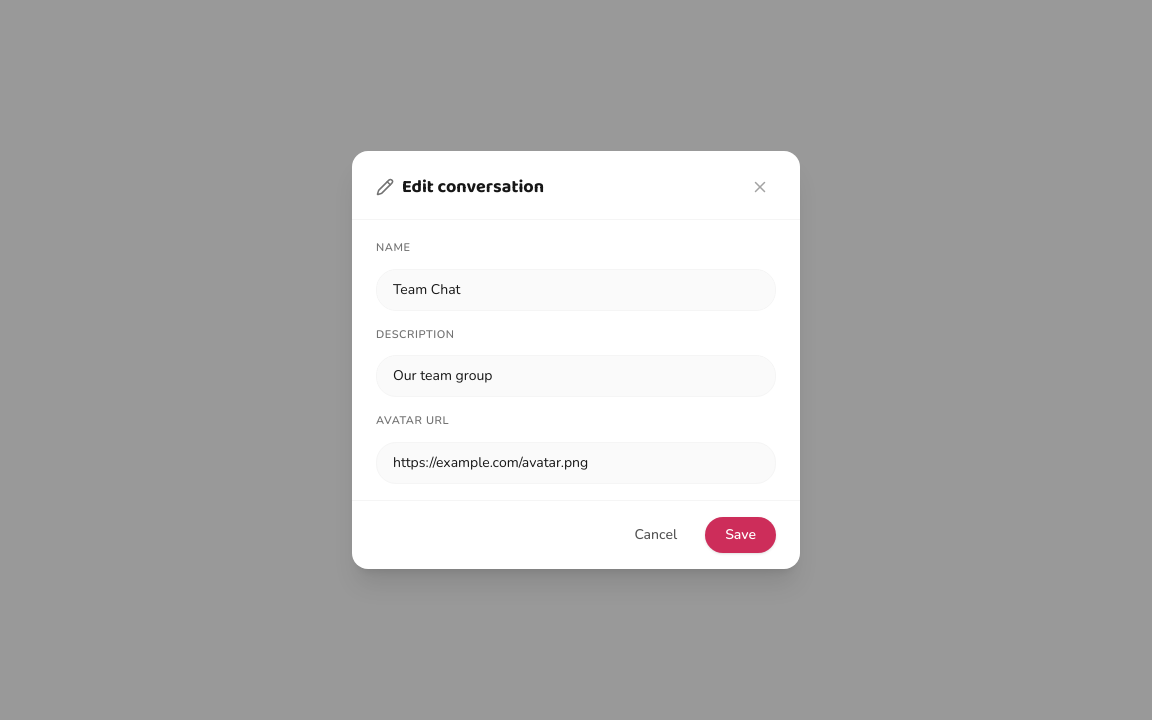
ConversationEditModal › save button is disabled when name is empty
This screenshot has width=1152, height=720.
Clear the field with placeholder "Conversation name…" below "Name" at (576,290), box [376, 269, 776, 311]
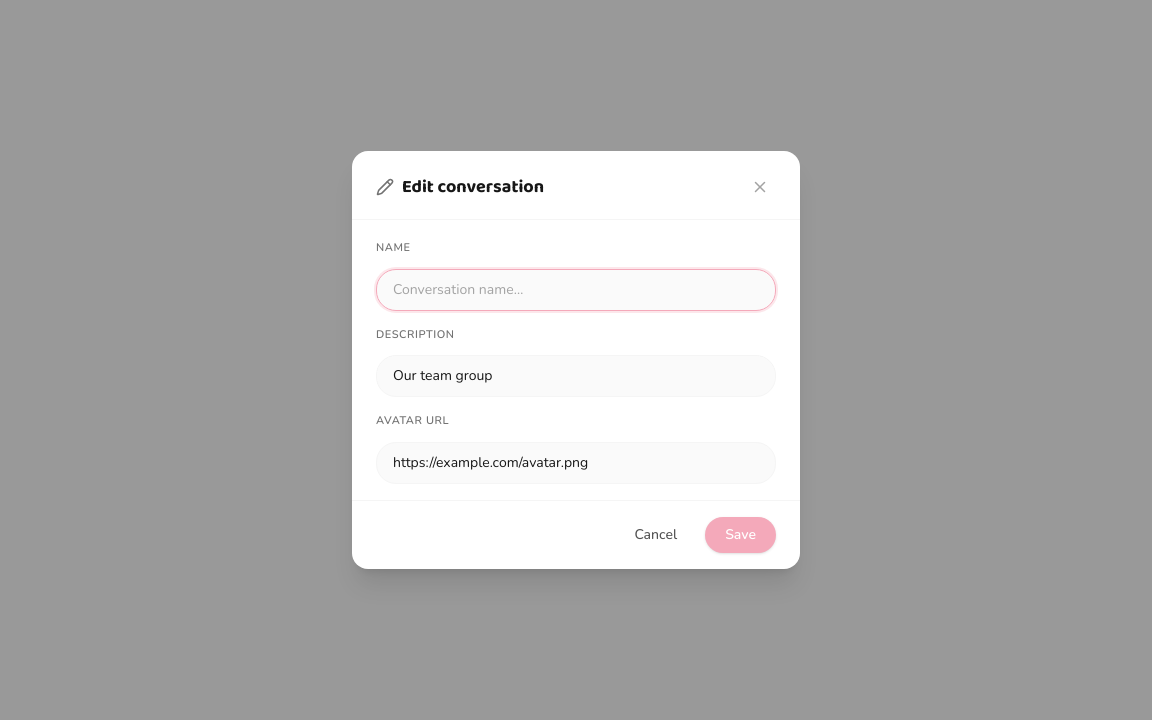
expect the button "Save" is disabled: met, box [705, 517, 776, 553]
